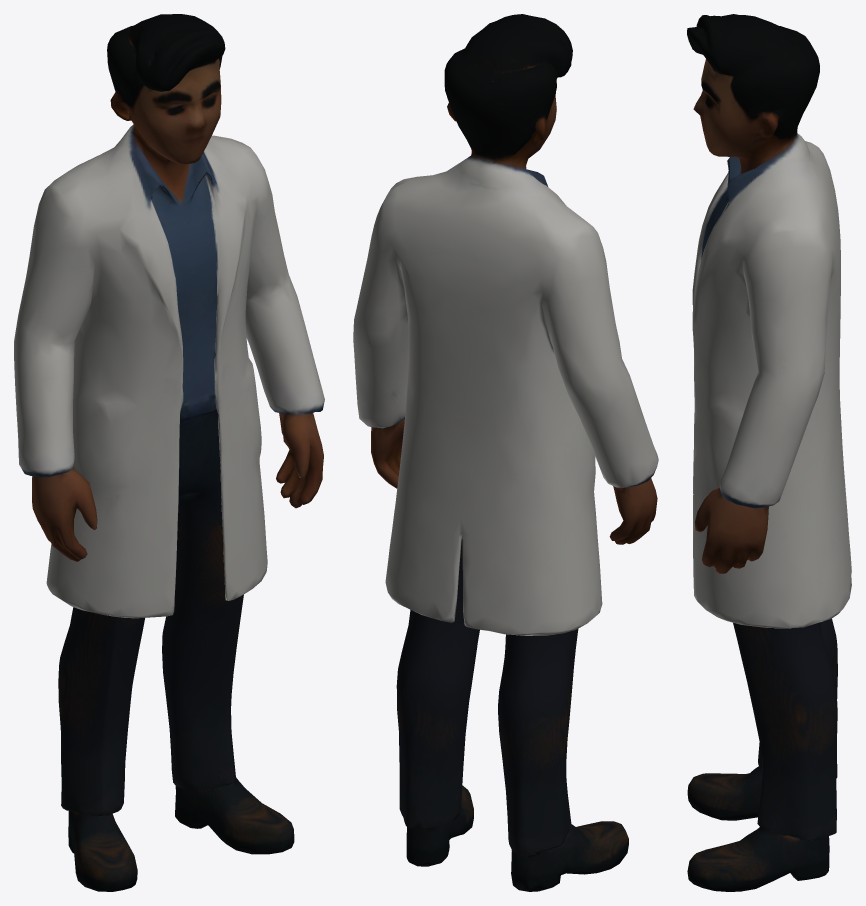
File: alfie-3d-model.glb
3 renders of one model, left to right at view 1: azimuth 30°, elevation 25°; view 2: azimuth 150°, elevation 25°; view 3: azimuth 270°, elevation 25°, orthographic.
Parts seen in each view (by area): view 1: world; view 2: world; view 3: world.
Boxes of the visible parts, bbox=[...] form: world: bbox=[14, 14, 324, 891]; world: bbox=[353, 14, 658, 891]; world: bbox=[687, 14, 851, 891].
Bounding box in the file's own units: 0.3692 × 1 × 0.1816.
1 material, 1 textured.
